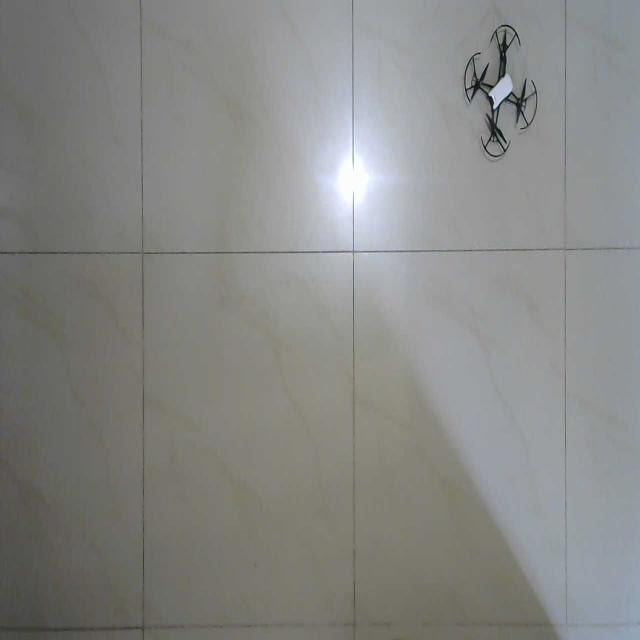drone: (462, 21, 538, 158)
